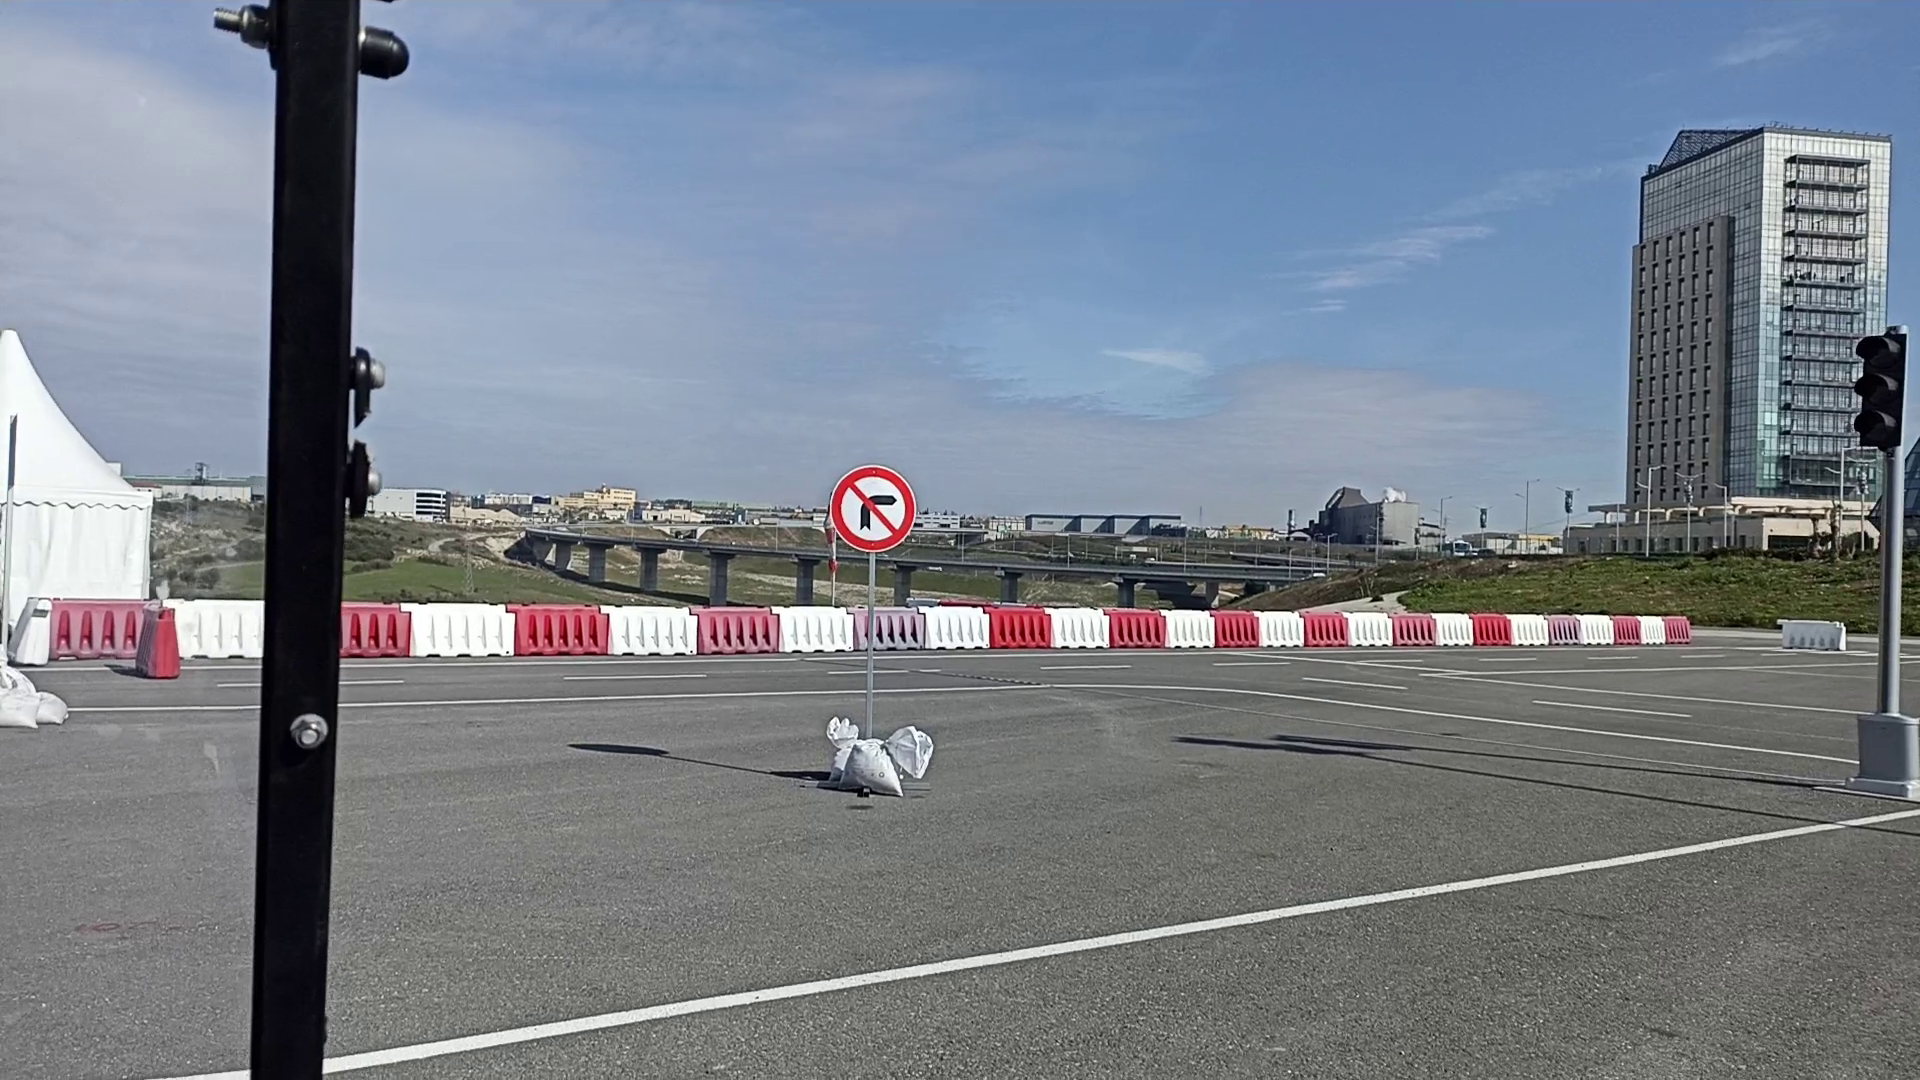noleftturn: (828, 463, 919, 555)
trafficlight: (1851, 326, 1909, 454)
